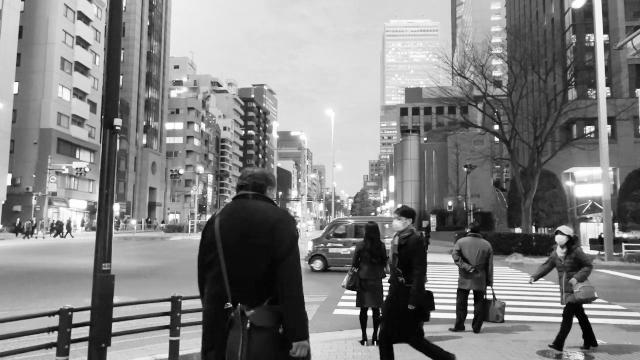berdiri: (448, 219, 506, 337), (344, 215, 390, 343)
berjalan: (190, 160, 316, 356), (372, 202, 456, 360), (524, 225, 604, 359)
